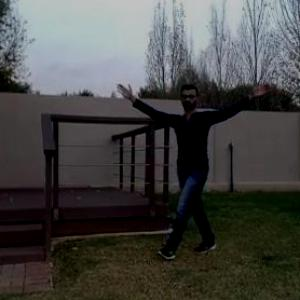takeoff: (122, 87, 268, 260)
